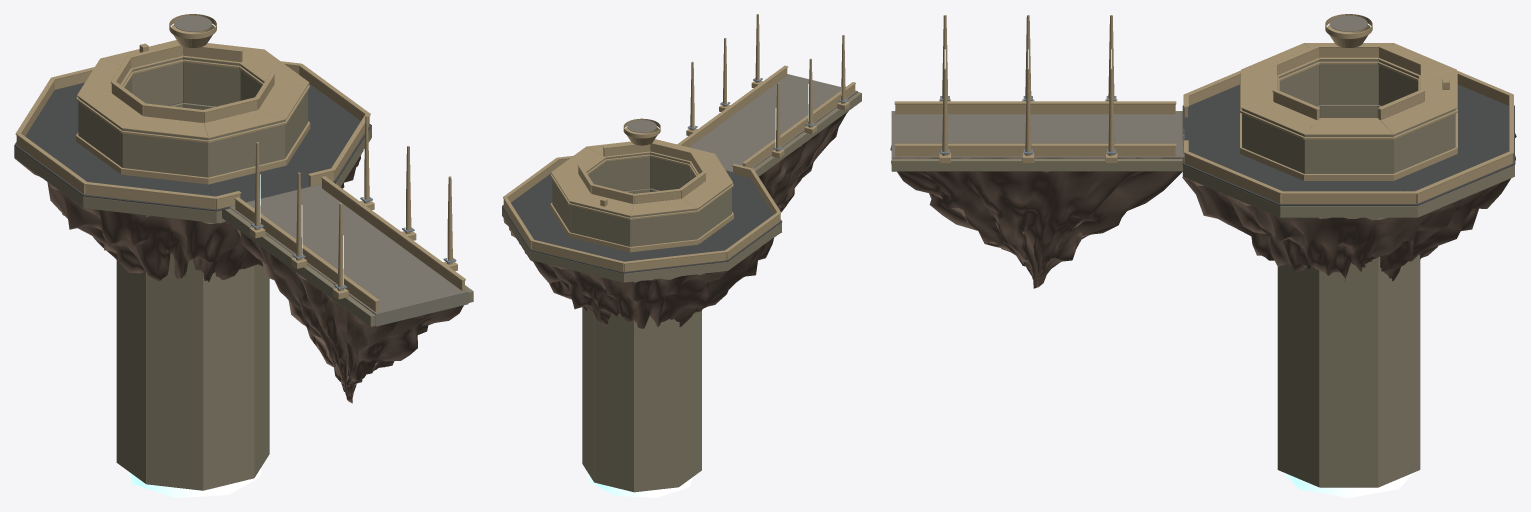
The model's file is f_heart.glb.
3 renders of one model, left to right at view 1: azimuth 30°, elevation 25°; view 2: azimuth 150°, elevation 25°; view 3: azimuth 270°, elevation 25°, orthographic. The views are drawn at different scales.
Visible parts, largest first — view 1: island_f_heart; view 2: island_f_heart; view 3: island_f_heart.
Part boxes in pixels (x1=…): island_f_heart: x1=14, y1=14, x2=473, y2=497; island_f_heart: x1=502, y1=14, x2=861, y2=497; island_f_heart: x1=890, y1=14, x2=1516, y2=497.
Bounding box in the file's own units: 28.29 × 41.33 × 52.76.
